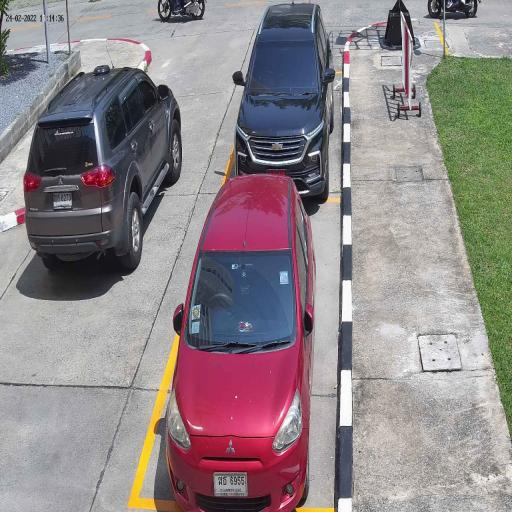car: (165, 173, 316, 512), (23, 66, 182, 272), (234, 2, 334, 203)
motorcycle: (157, 0, 206, 22), (427, 0, 478, 20)
